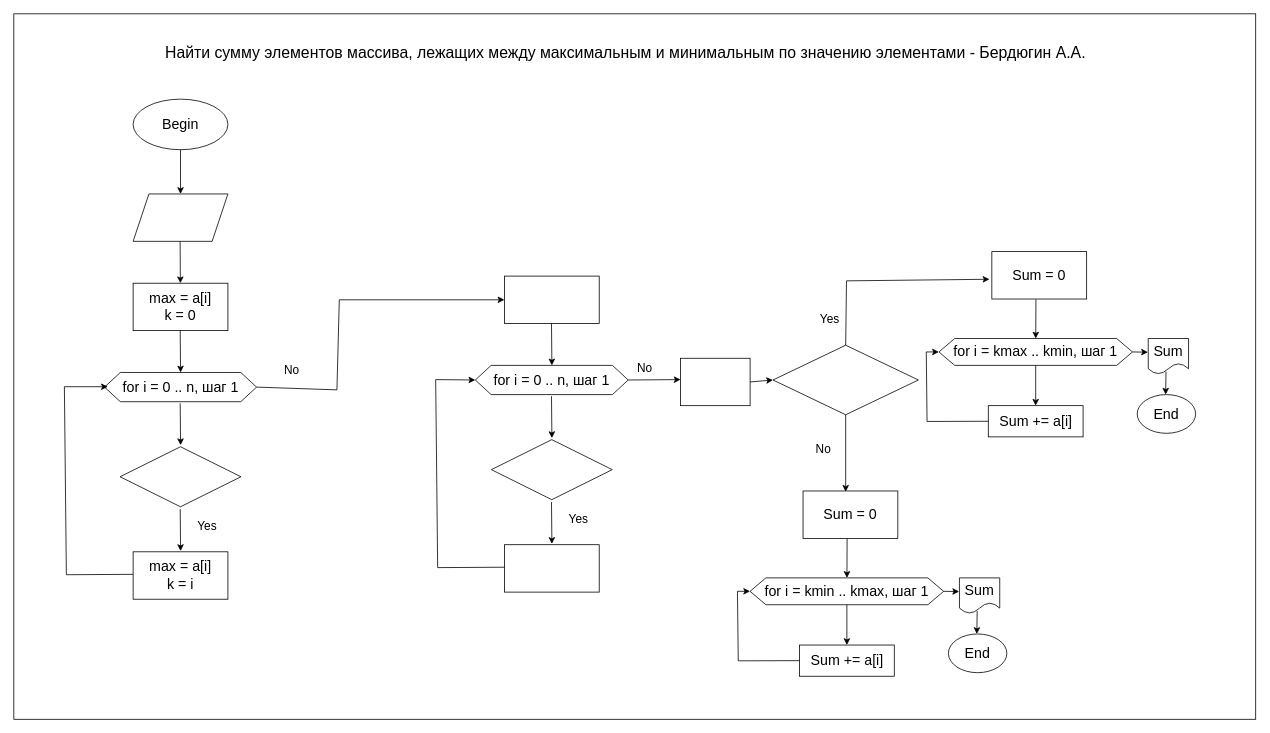
Image size: 1270x733. Some labels were removed from this diagram. Here are the shapes that lost their labels. From the top down, the box of each, then its label:
(132, 193, 228, 241): n, a[i]
(504, 275, 599, 324): min = a[i] k = 0
(680, 357, 750, 406): kmax kmin
(772, 344, 918, 415): kmax < kmin ?
(119, 446, 241, 507): a[i] > max ?
(491, 439, 612, 500): a[i] < min ?
(504, 544, 599, 592): min = a[i] k = i
